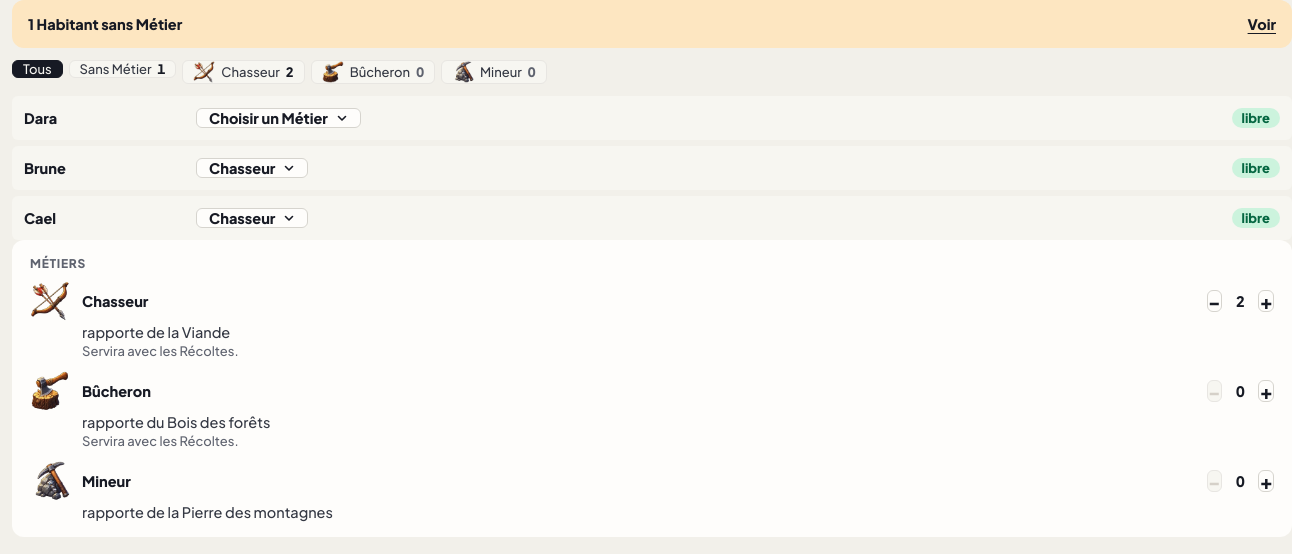
Test: répartir les Habitants avec plus et moins, dans le bloc Métiers (US-0312) › « − » remet aussitôt sans Métier le dernier arrivé de ce Métier, qui remonte parmi les sans Métier
The width and height of the screenshot is (1292, 554).
Click the 1st button "−": (1214, 301) [1207, 290, 1222, 312]
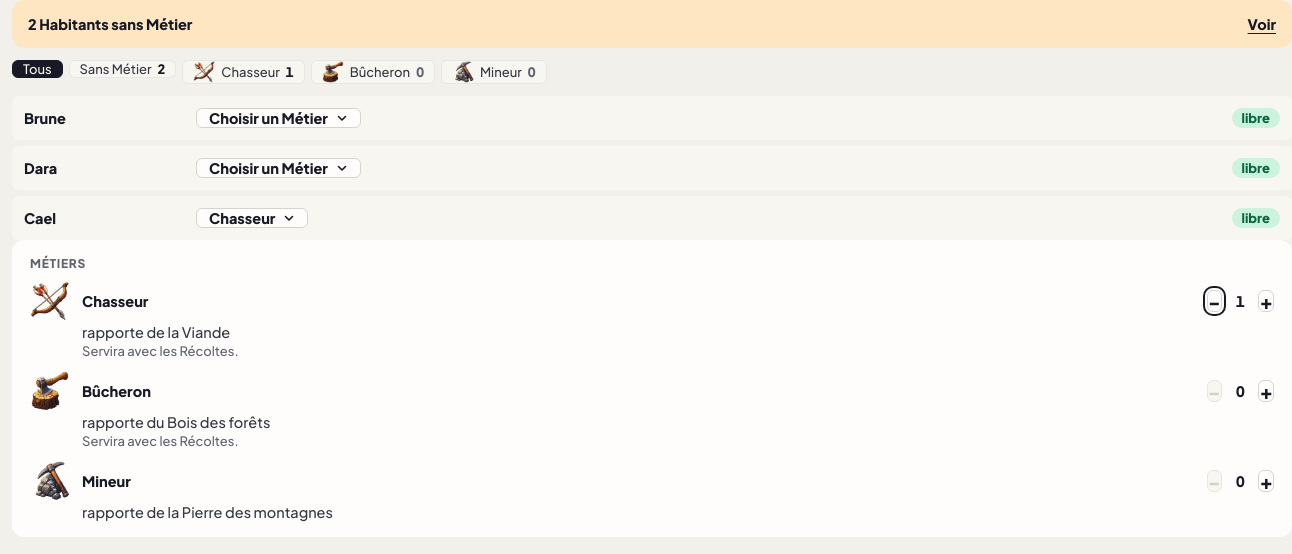
Expected: the text "2 Habitants sans Métier" is shown, [28, 15, 192, 33]
